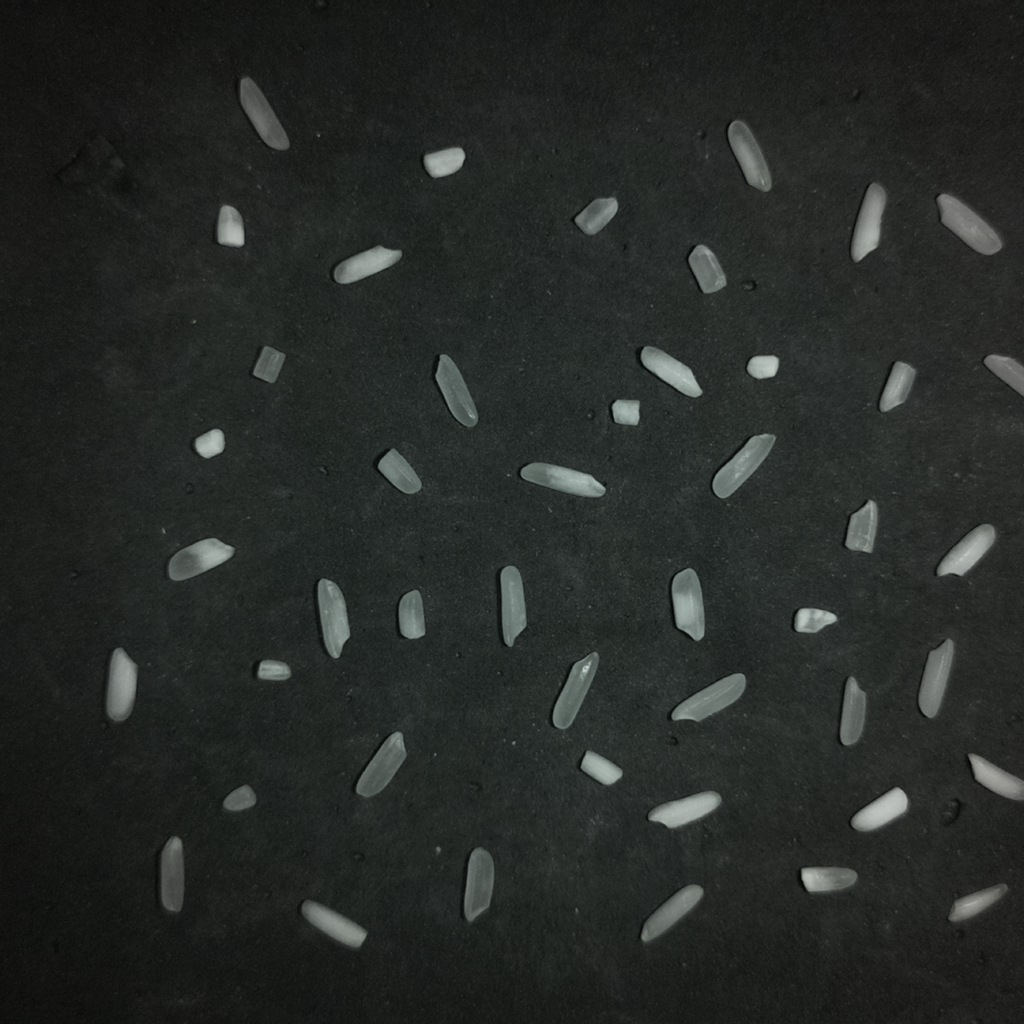broken: (377, 449, 420, 494), (839, 676, 866, 745), (688, 244, 726, 293), (845, 499, 878, 553), (983, 354, 1023, 395), (574, 198, 617, 235), (398, 589, 426, 639), (252, 346, 285, 383), (794, 608, 837, 633), (222, 784, 256, 812)
chalky: (300, 900, 366, 949), (727, 120, 771, 191), (640, 346, 702, 396), (936, 524, 995, 575), (520, 462, 605, 497), (850, 182, 886, 262), (167, 538, 234, 580), (648, 791, 721, 828), (967, 753, 1023, 801), (333, 245, 401, 284), (850, 787, 908, 831), (105, 647, 137, 722), (671, 568, 704, 640), (948, 883, 1008, 922), (879, 361, 916, 412), (800, 866, 857, 892), (580, 750, 622, 785), (423, 147, 465, 178), (216, 205, 244, 246), (193, 428, 224, 458), (746, 354, 778, 379), (256, 659, 291, 681), (611, 399, 639, 425)
whole: (712, 434, 775, 498), (936, 194, 1001, 254), (238, 77, 289, 150), (671, 673, 746, 721), (552, 652, 598, 729), (640, 885, 702, 942), (355, 731, 407, 798), (435, 354, 477, 427), (918, 638, 954, 717), (317, 578, 350, 658), (463, 847, 493, 922), (499, 565, 526, 647), (159, 836, 185, 913)
